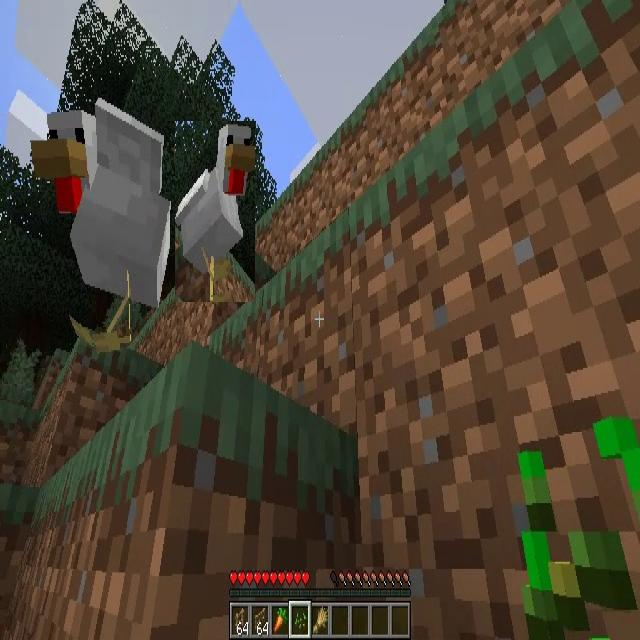duck: (32, 100, 170, 348), (175, 121, 255, 302)
